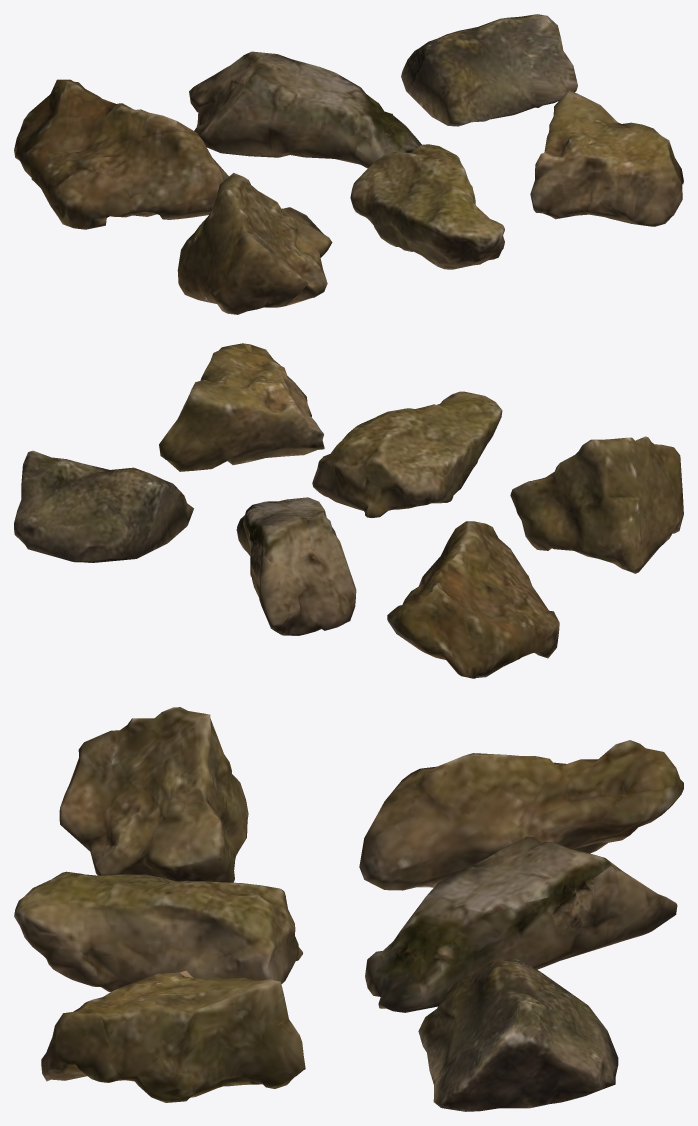
Rendered from rock_moss.glb.
3 renders of one model, top to bottom at view 1: azimuth 30°, elevation 25°; view 2: azimuth 150°, elevation 25°; view 3: azimuth 270°, elevation 25°, orthographic. The views are drawn at different scales.
Visible parts, largest first — view 1: rock_moss_set_01_rock01, rock_moss_set_01_rock02, rock_moss_set_01_rock06, rock_moss_set_01_rock04, rock_moss_set_01_rock03, rock_moss_set_01_rock05; view 2: rock_moss_set_01_rock04, rock_moss_set_01_rock01, rock_moss_set_01_rock05, rock_moss_set_01_rock03, rock_moss_set_01_rock06, rock_moss_set_01_rock02; view 3: rock_moss_set_01_rock01, rock_moss_set_01_rock02, rock_moss_set_01_rock05, rock_moss_set_01_rock04, rock_moss_set_01_rock06, rock_moss_set_01_rock03.
Part boxes in pixels (<box>): rock_moss_set_01_rock01: <box>14,79,228,229</box>; rock_moss_set_01_rock02: <box>189,51,421,168</box>; rock_moss_set_01_rock06: <box>530,89,683,226</box>; rock_moss_set_01_rock04: <box>177,173,332,314</box>; rock_moss_set_01_rock03: <box>401,14,577,126</box>; rock_moss_set_01_rock05: <box>350,144,504,269</box>; rock_moss_set_01_rock04: <box>510,436,683,573</box>; rock_moss_set_01_rock01: <box>387,521,559,678</box>; rock_moss_set_01_rock05: <box>312,391,502,517</box>; rock_moss_set_01_rock03: <box>14,450,193,562</box>; rock_moss_set_01_rock06: <box>159,343,324,471</box>; rock_moss_set_01_rock02: <box>236,497,356,635</box>; rock_moss_set_01_rock01: <box>359,740,683,890</box>; rock_moss_set_01_rock02: <box>365,836,677,1012</box>; rock_moss_set_01_rock05: <box>14,871,302,991</box>; rock_moss_set_01_rock04: <box>59,707,248,882</box>; rock_moss_set_01_rock06: <box>41,970,305,1102</box>; rock_moss_set_01_rock03: <box>418,959,618,1111</box>.
Bounding box in the file's own units: 8 × 1.76 × 6.94.
1 material, 1 textured.
